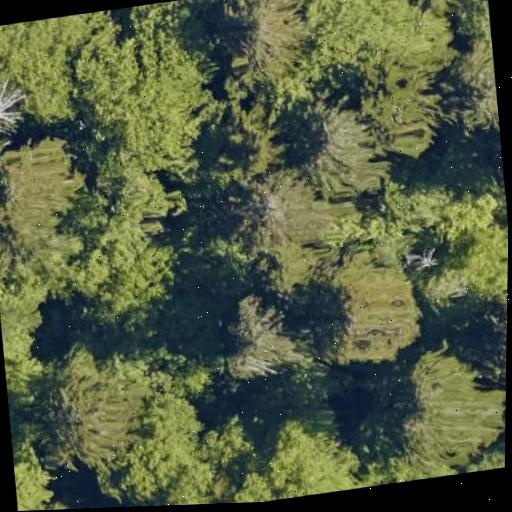tree-top: (64, 17, 234, 193), (65, 10, 222, 188), (392, 174, 509, 317), (299, 0, 461, 100), (28, 342, 146, 476), (313, 245, 435, 372), (387, 343, 507, 469), (72, 217, 182, 329), (288, 92, 388, 209), (0, 12, 100, 129), (102, 384, 203, 495), (250, 410, 363, 502), (0, 135, 88, 248), (214, 280, 298, 387), (352, 70, 450, 160), (231, 172, 321, 253), (0, 224, 90, 302), (226, 0, 309, 84), (207, 95, 286, 182), (443, 41, 501, 138), (0, 278, 53, 371), (11, 442, 54, 511), (0, 68, 24, 135), (20, 493, 80, 511), (408, 0, 476, 12)
